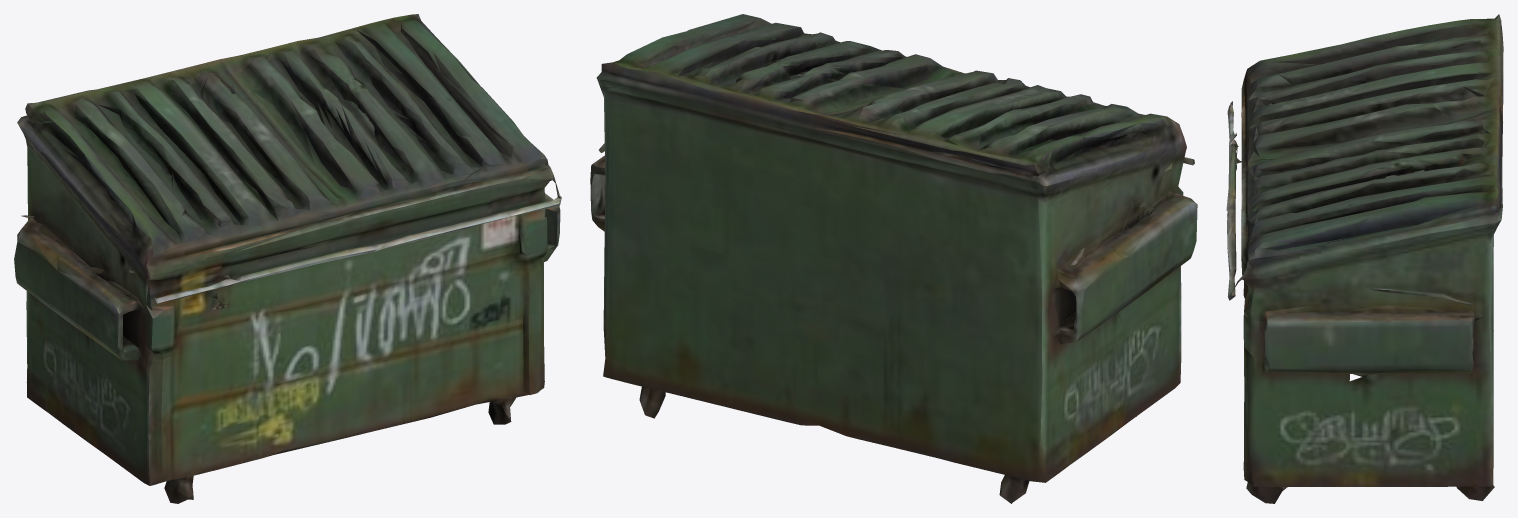
The model's file is street_dumpster.glb.
3 views of the same model, side by side, from view 1: azimuth 30°, elevation 25°; view 2: azimuth 150°, elevation 25°; view 3: azimuth 270°, elevation 25° (orthographic). The views are drawn at different scales.
Visible parts, largest first — view 1: turn; view 2: turn; view 3: turn.
Part boxes in pixels (x1,y1,x2,y2): turn: (14,14,561,503); turn: (590,14,1197,503); turn: (1226,14,1503,503).
Size of the model in its own units: 1.86 by 1.3 by 1.02.
1 material, 1 textured.
